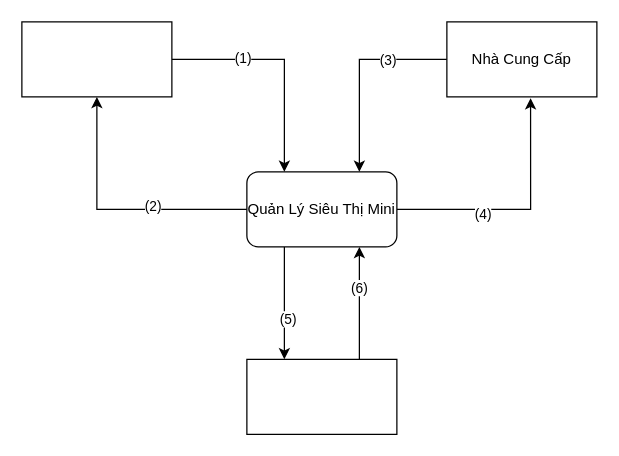
Image size: 619x456. Some labels were removed from this diagram. The centre of each missing label's shape, as x and y in pixels:
"Khách Hàng" goes at point 321,396.
"Nhân Viên" goes at point 96,59.
